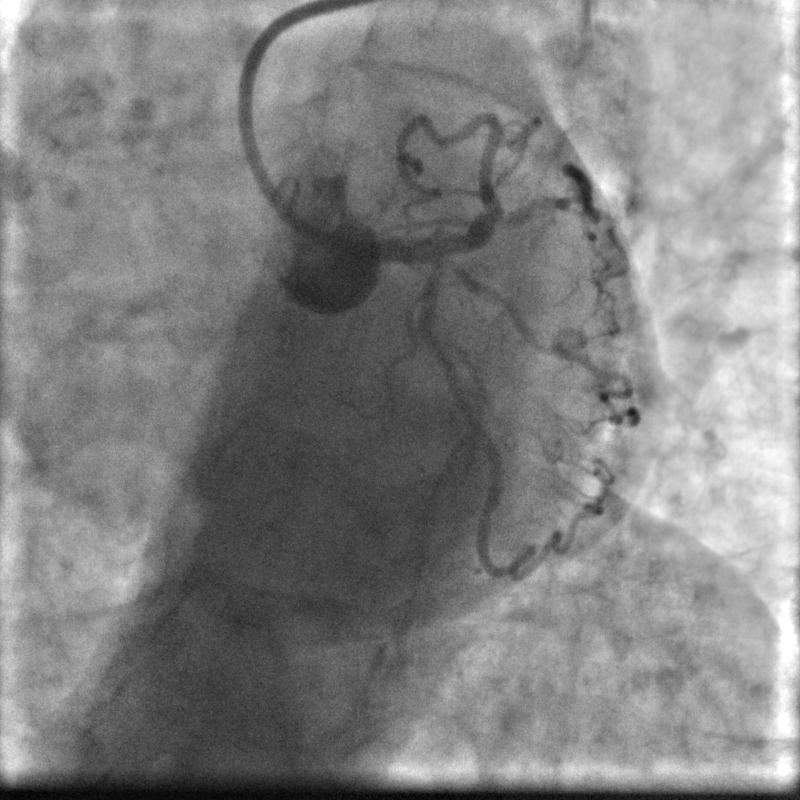Stenosis: (418, 318, 445, 348)
